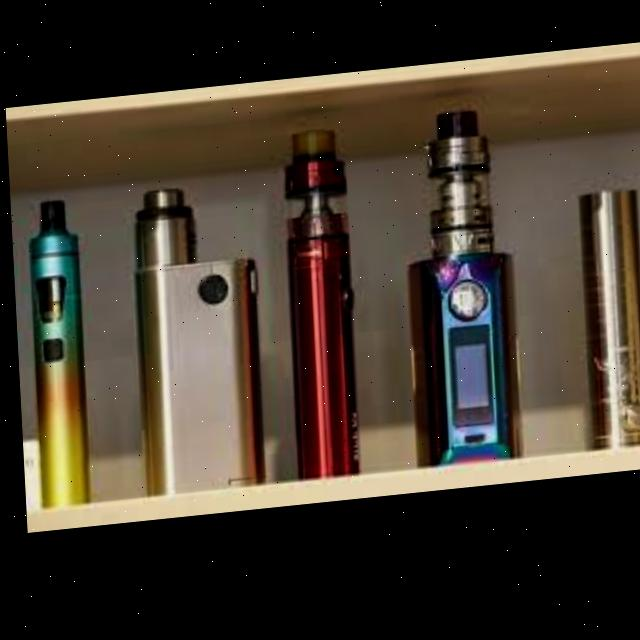vape: (398, 105, 520, 476), (127, 183, 262, 499), (281, 130, 360, 490), (24, 198, 87, 511)
